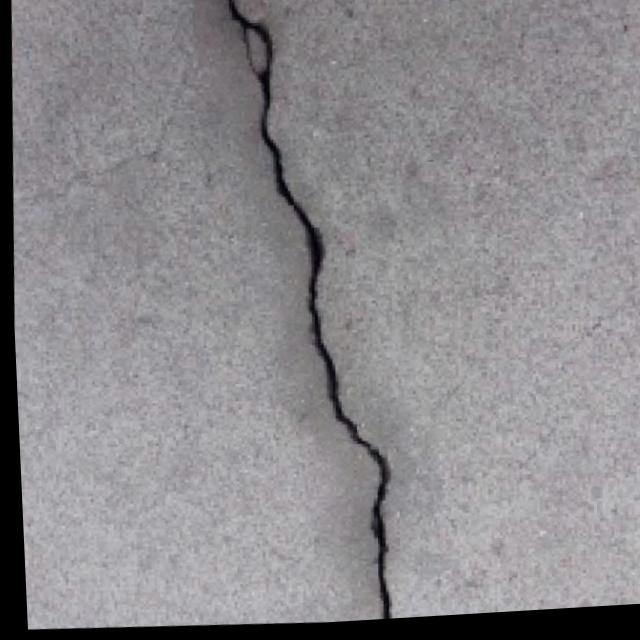Crack: (163, 0, 445, 632)
